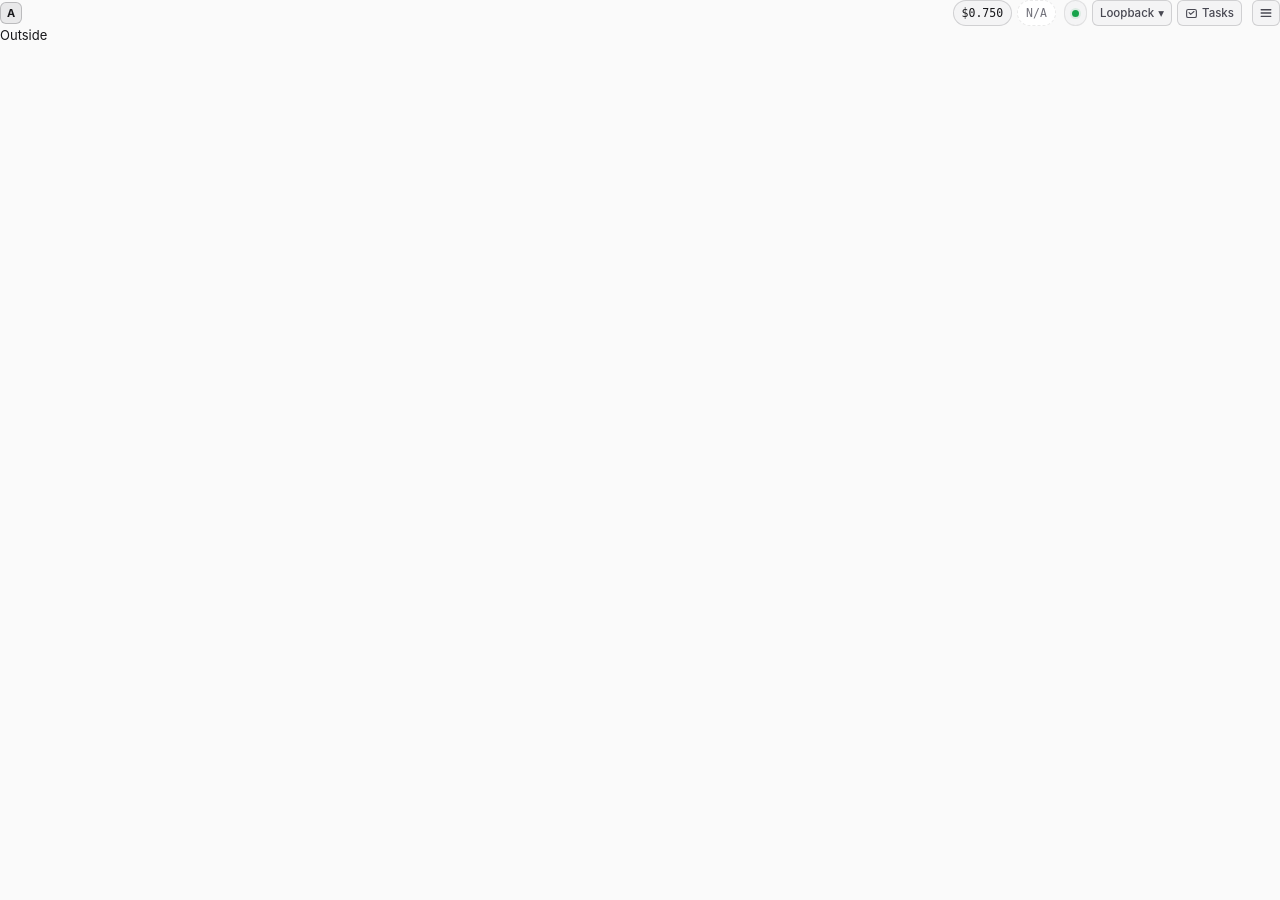
it: TopbarCapsules popovers & MobileQrPopover › supports fallback flat fields in Usage popover when periods object is absent
Click the button "Usage" at (982, 13), box [952,0,1012,26]
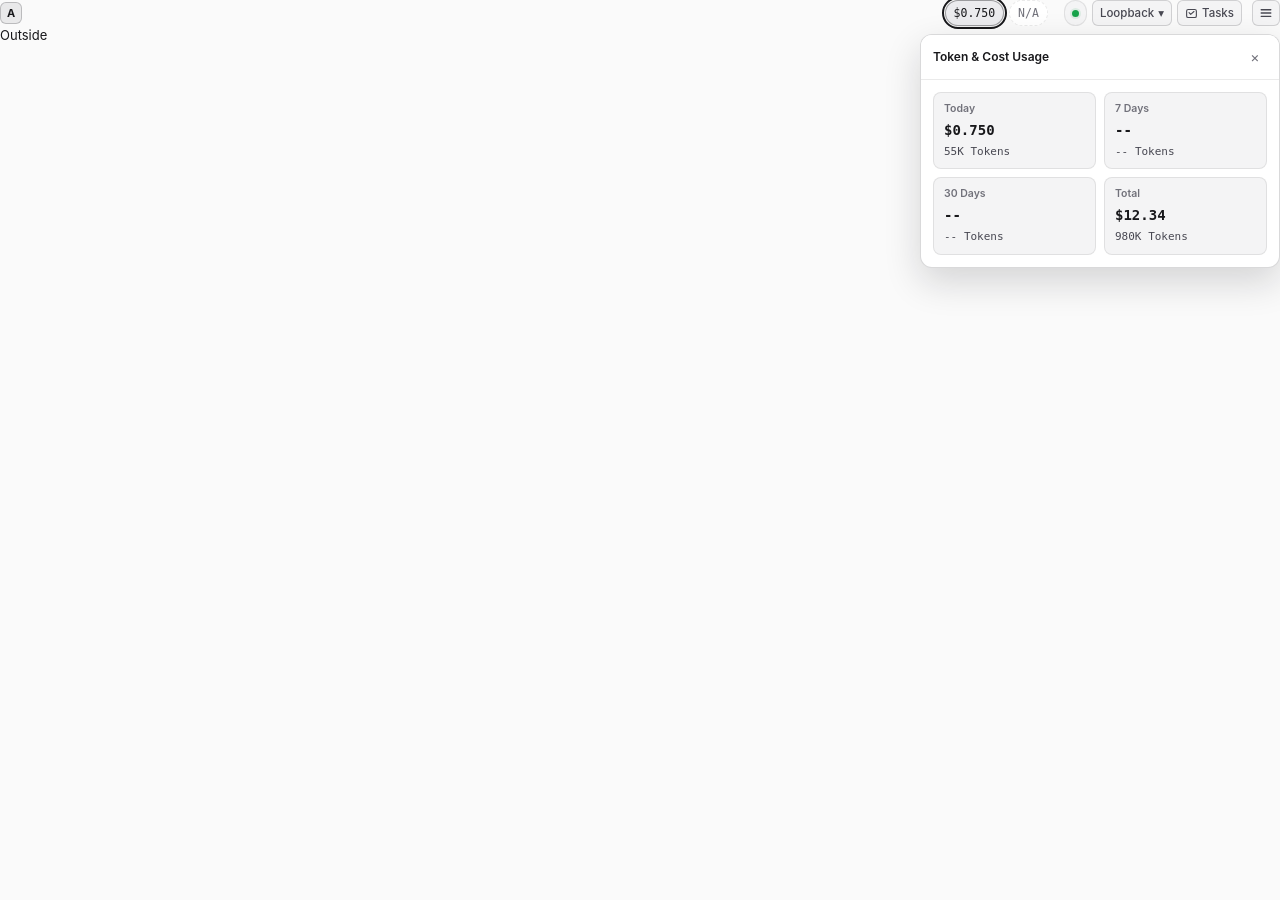
Now the element with test id "usage-card-today" shows "$0.750", box [944,122,995,138]
Now the element with test id "usage-card-today" shows "55K", box [944,145,964,158]
Now the element with test id "usage-card-total" shows "$12.34", box [1115,207,1166,223]
